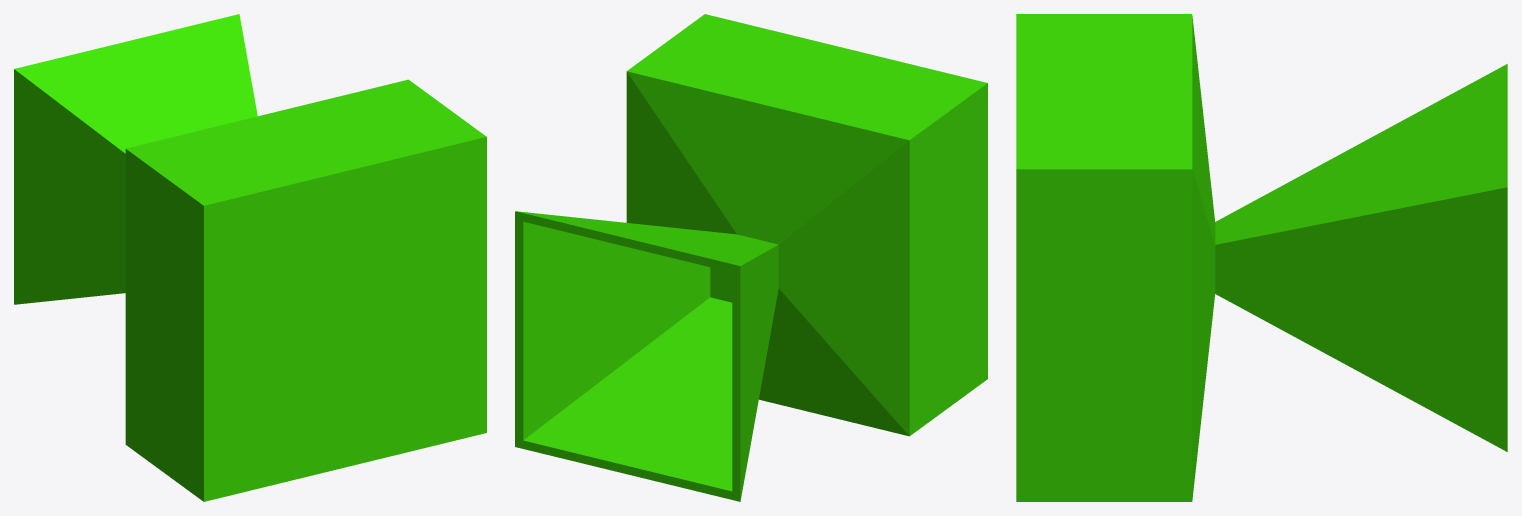
Rendered from Megaphone.dae.
3 views of the same model, side by side, from view 1: azimuth 30°, elevation 25°; view 2: azimuth 150°, elevation 25°; view 3: azimuth 270°, elevation 25° (orthographic). The views are drawn at different scales.
Parts seen in each view (by area): view 1: Megaphone; view 2: Megaphone; view 3: Megaphone.
Part boxes in pixels (left/top/right/bottom): Megaphone: left=14, top=14, right=486, bottom=501; Megaphone: left=515, top=14, right=987, bottom=501; Megaphone: left=1016, top=14, right=1507, bottom=501.
Bounding box in the file's own units: 2.51 × 3.36 × 2.51.
